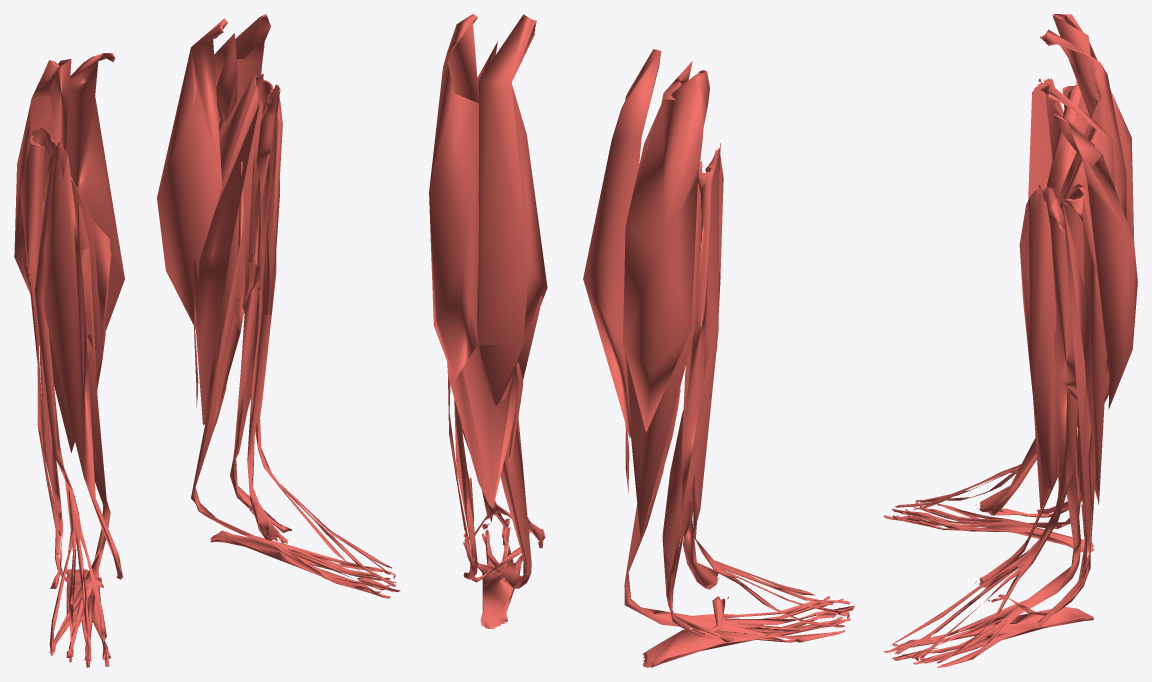
The model's file is supplement-ankle-foot-muscle-4XU622S4.glb.
3 renders of one model, left to right at view 1: azimuth 30°, elevation 25°; view 2: azimuth 150°, elevation 25°; view 3: azimuth 270°, elevation 25°, orthographic. The views are drawn at different scales.
Parts seen in each view (by area): view 1: ankle-foot:gastrocnemius:isa:FJ1397M, ankle-foot:tibialis-anterior:isa:FJ1439, ankle-foot:soleus:isa:FJ1437M, ankle-foot:gastrocnemius:isa:FJ1397, ankle-foot:flexor-digitorum-longus:isa:FJ1414M, ankle-foot:extensor-digitorum-longus:isa:FJ1406, ankle-foot:tibialis-anterior:isa:FJ1439M, ankle-foot:flexor-digitorum-longus:isa:FJ1414, ankle-foot:soleus:isa:FJ1437, ankle-foot:fibularis-longus:isa:FJ1410, ankle-foot:extensor-digitorum-longus:isa:FJ1406M, ankle-foot:fibularis-brevis:isa:FJ1409M (+8 smaller); view 2: ankle-foot:gastrocnemius:isa:FJ1394, ankle-foot:gastrocnemius:isa:FJ1397M, ankle-foot:gastrocnemius:isa:FJ1394M, ankle-foot:gastrocnemius:isa:FJ1397, ankle-foot:soleus:isa:FJ1437M, ankle-foot:extensor-digitorum-longus:isa:FJ1406, ankle-foot:fibularis-longus:isa:FJ1410, ankle-foot:soleus:isa:FJ1437, ankle-foot:flexor-digitorum-longus:isa:FJ1414, ankle-foot:flexor-digitorum-longus:isa:FJ1414M, ankle-foot:flexor-digitorum-brevis:isa:FJ1413, ankle-foot:fibularis-brevis:isa:FJ1409 (+5 smaller); view 3: ankle-foot:tibialis-anterior:isa:FJ1439M, ankle-foot:gastrocnemius:isa:FJ1394M, ankle-foot:extensor-digitorum-longus:isa:FJ1406M, ankle-foot:fibularis-longus:isa:FJ1410M, ankle-foot:soleus:isa:FJ1437M, ankle-foot:flexor-digitorum-longus:isa:FJ1414M, ankle-foot:gastrocnemius:isa:FJ1397, ankle-foot:tibialis-anterior:isa:FJ1439, ankle-foot:flexor-digitorum-brevis:isa:FJ1413M, ankle-foot:gastrocnemius:isa:FJ1397M, ankle-foot:flexor-digitorum-longus:isa:FJ1414, ankle-foot:soleus:isa:FJ1437 (+6 smaller).
Part boxes in pixels (box(x1,y1,x2,y2)): ankle-foot:gastrocnemius:isa:FJ1397M: box(157, 18, 227, 328); ankle-foot:tibialis-anterior:isa:FJ1439: box(43, 145, 123, 579); ankle-foot:soleus:isa:FJ1437M: box(193, 74, 263, 424); ankle-foot:gastrocnemius:isa:FJ1397: box(66, 53, 124, 330); ankle-foot:flexor-digitorum-longus:isa:FJ1414M: box(191, 161, 400, 598); ankle-foot:extensor-digitorum-longus:isa:FJ1406: box(35, 139, 106, 661); ankle-foot:tibialis-anterior:isa:FJ1439M: box(247, 91, 282, 541); ankle-foot:flexor-digitorum-longus:isa:FJ1414: box(50, 202, 110, 667); ankle-foot:soleus:isa:FJ1437: box(24, 127, 111, 452); ankle-foot:fibularis-longus:isa:FJ1410: box(20, 135, 103, 587); ankle-foot:extensor-digitorum-longus:isa:FJ1406M: box(255, 84, 396, 588); ankle-foot:fibularis-brevis:isa:FJ1409M: box(234, 256, 291, 532); ankle-foot:gastrocnemius:isa:FJ1394: box(623, 70, 709, 432); ankle-foot:gastrocnemius:isa:FJ1397M: box(479, 14, 547, 405); ankle-foot:gastrocnemius:isa:FJ1394M: box(429, 14, 478, 380); ankle-foot:gastrocnemius:isa:FJ1397: box(583, 49, 661, 437); ankle-foot:soleus:isa:FJ1437M: box(447, 204, 542, 507); ankle-foot:extensor-digitorum-longus:isa:FJ1406: box(693, 143, 850, 627); ankle-foot:fibularis-longus:isa:FJ1410: box(666, 167, 728, 636); ankle-foot:soleus:isa:FJ1437: box(627, 161, 702, 538); ankle-foot:flexor-digitorum-longus:isa:FJ1414: box(624, 388, 854, 642); ankle-foot:flexor-digitorum-longus:isa:FJ1414M: box(464, 417, 531, 588); ankle-foot:flexor-digitorum-brevis:isa:FJ1413: box(642, 596, 843, 667); ankle-foot:fibularis-brevis:isa:FJ1409: box(662, 410, 733, 642); ankle-foot:tibialis-anterior:isa:FJ1439M: box(975, 188, 1058, 587); ankle-foot:gastrocnemius:isa:FJ1394M: box(1053, 113, 1137, 409); ankle-foot:extensor-digitorum-longus:isa:FJ1406M: box(890, 185, 1077, 663); ankle-foot:fibularis-longus:isa:FJ1410M: box(988, 195, 1095, 615); ankle-foot:soleus:isa:FJ1437M: box(1063, 183, 1106, 504); ankle-foot:flexor-digitorum-longus:isa:FJ1414M: box(883, 457, 1080, 667); ankle-foot:gastrocnemius:isa:FJ1397: box(1040, 29, 1126, 219); ankle-foot:tibialis-anterior:isa:FJ1439: box(975, 83, 1052, 515); ankle-foot:flexor-digitorum-brevis:isa:FJ1413M: box(893, 607, 1093, 667); ankle-foot:gastrocnemius:isa:FJ1397M: box(1039, 84, 1115, 402); ankle-foot:flexor-digitorum-longus:isa:FJ1414: box(883, 426, 1080, 529); ankle-foot:soleus:isa:FJ1437: box(1047, 81, 1089, 198).
Bounding box in the file's own units: 0.3321 × 0.5042 × 0.218.
